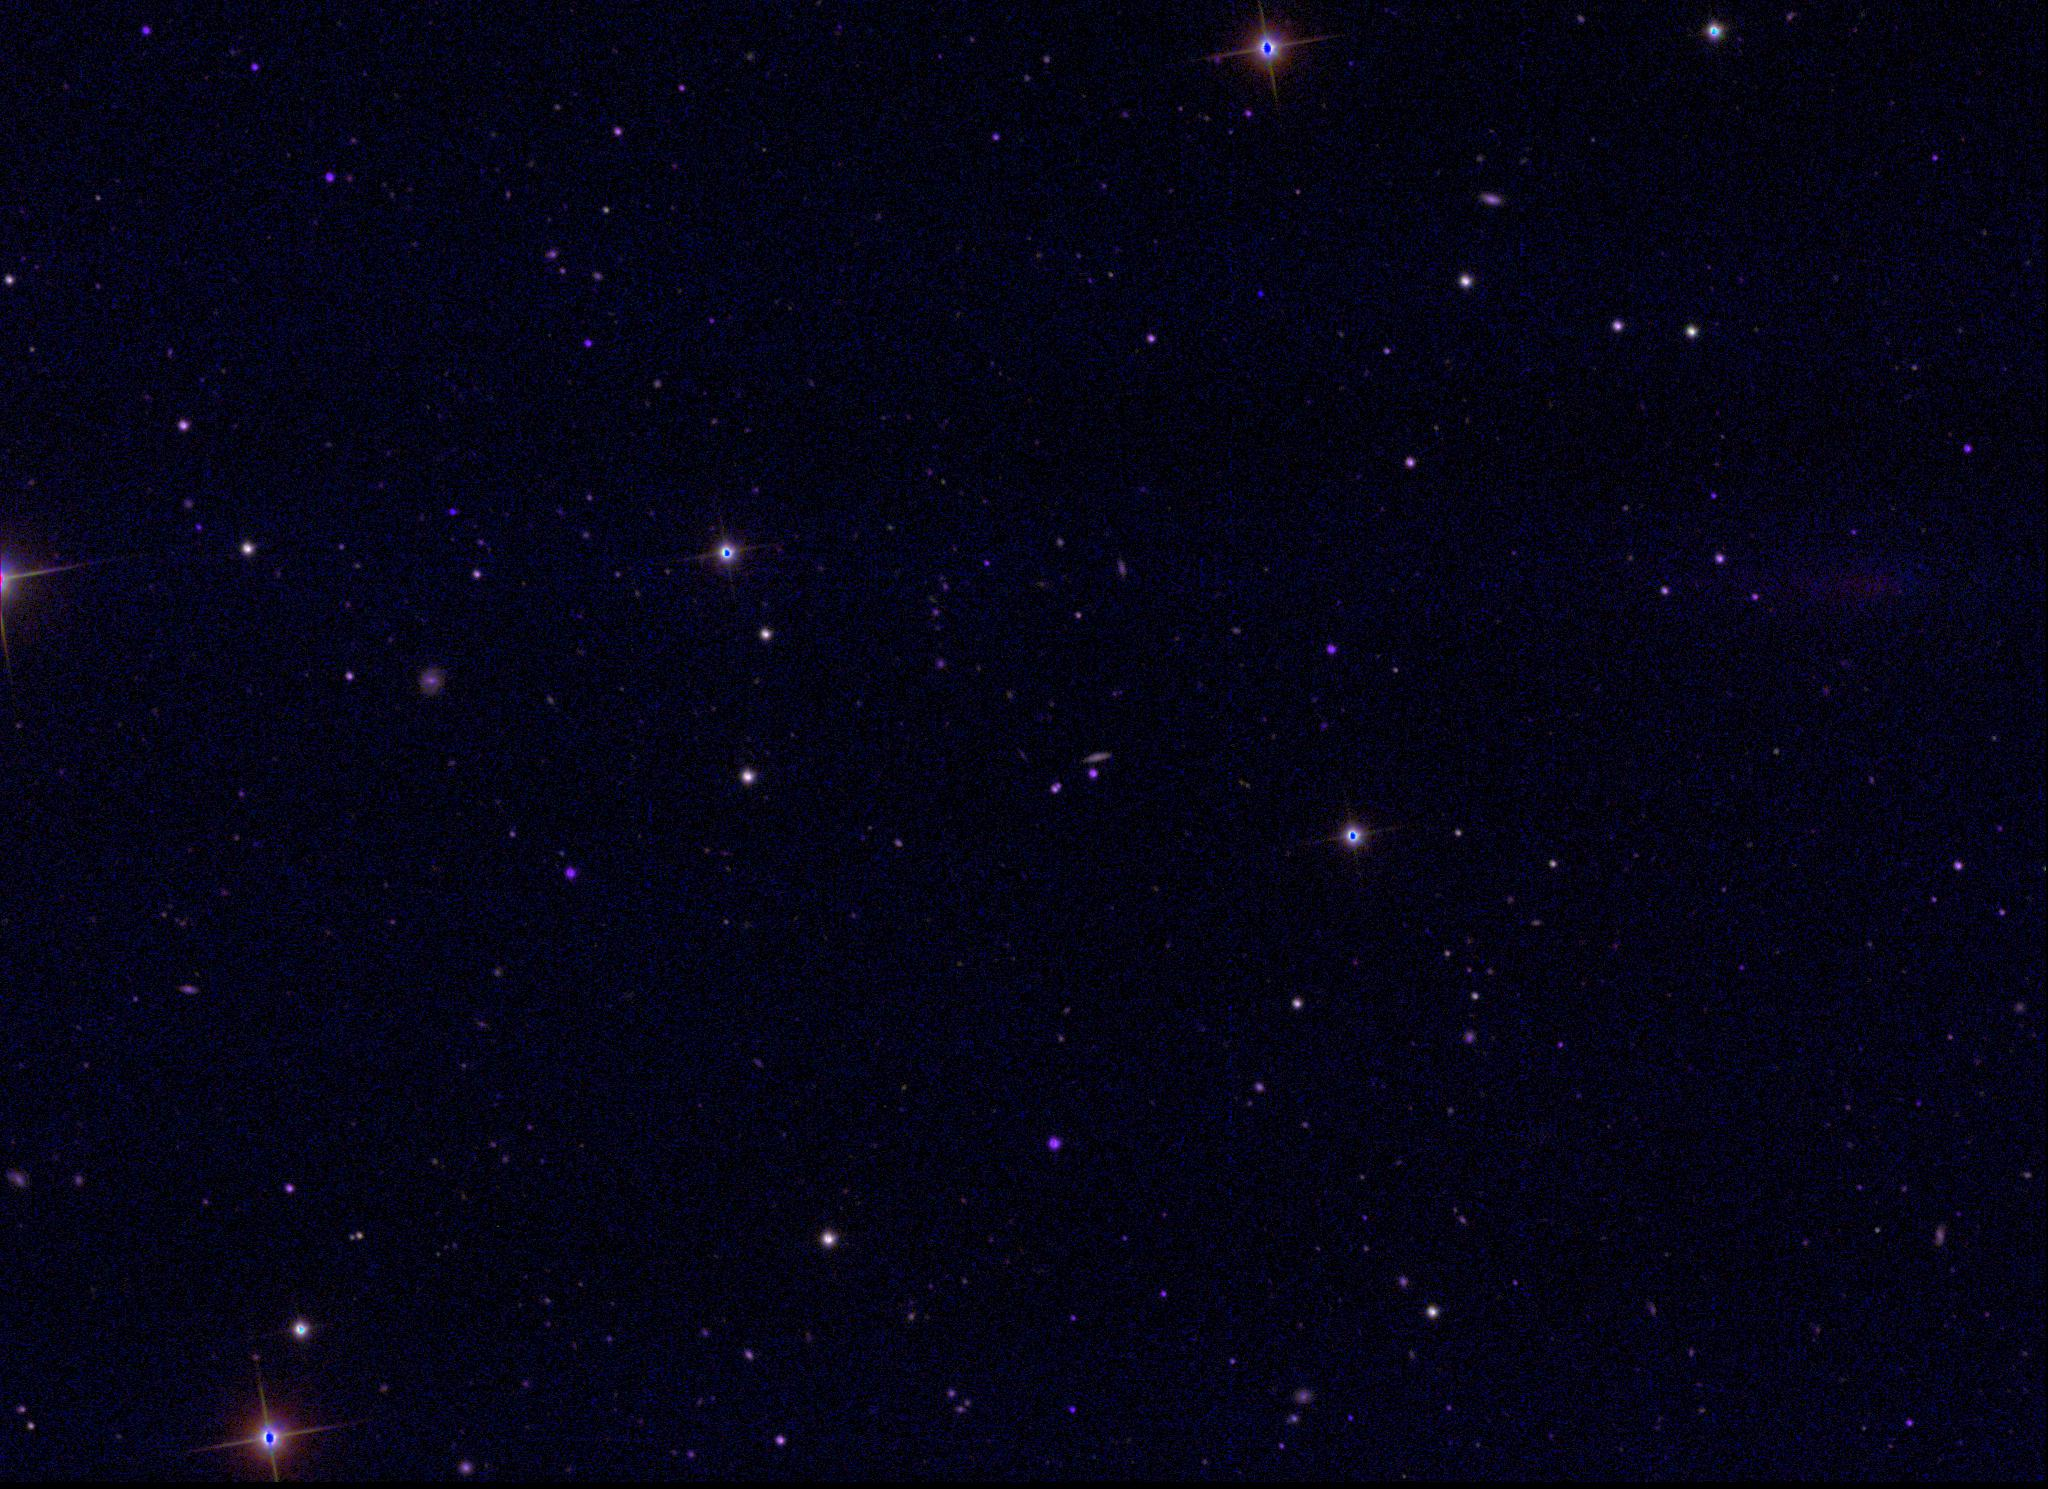L: (1255, 286, 1267, 301)
